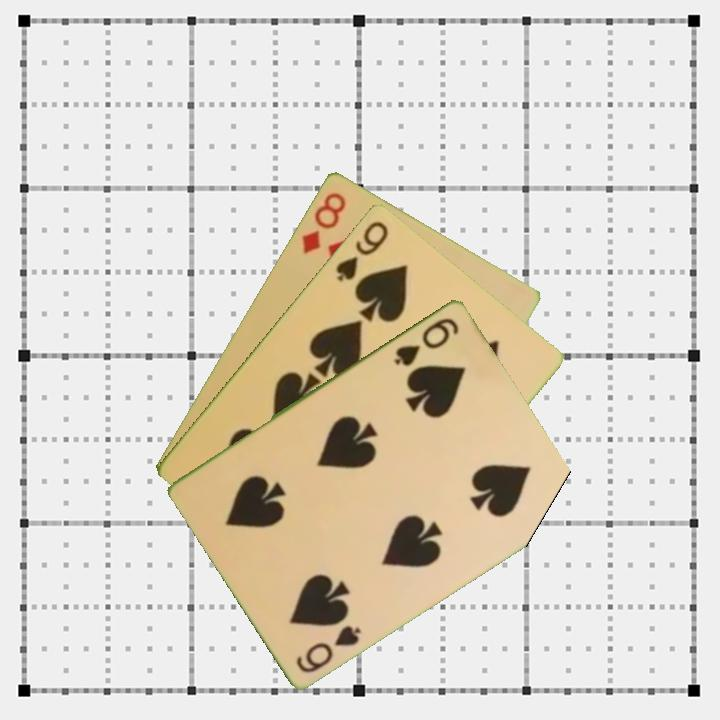6s: (390, 313, 462, 369), (292, 621, 365, 676)
8d: (297, 188, 349, 257)
9s: (332, 217, 391, 284)
